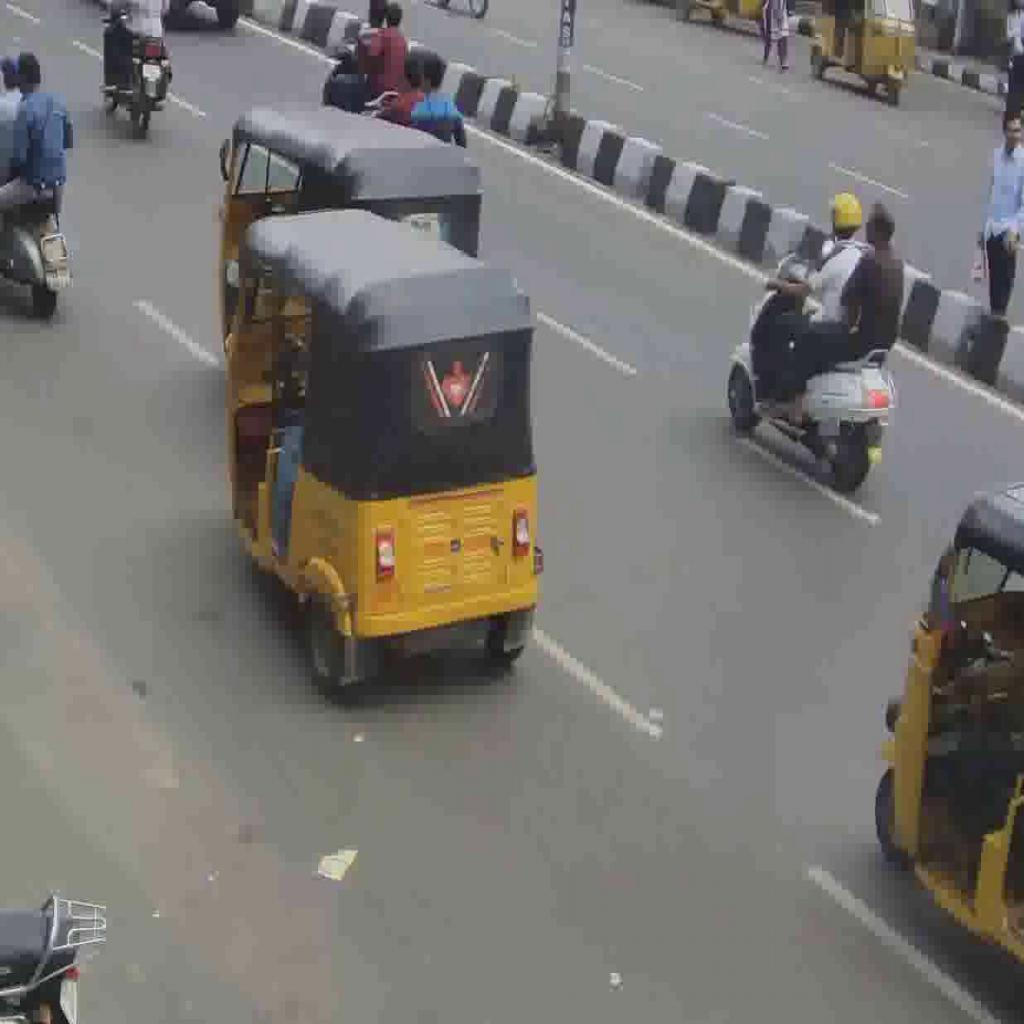helmet: (725, 266, 901, 492), (91, 0, 177, 138)
